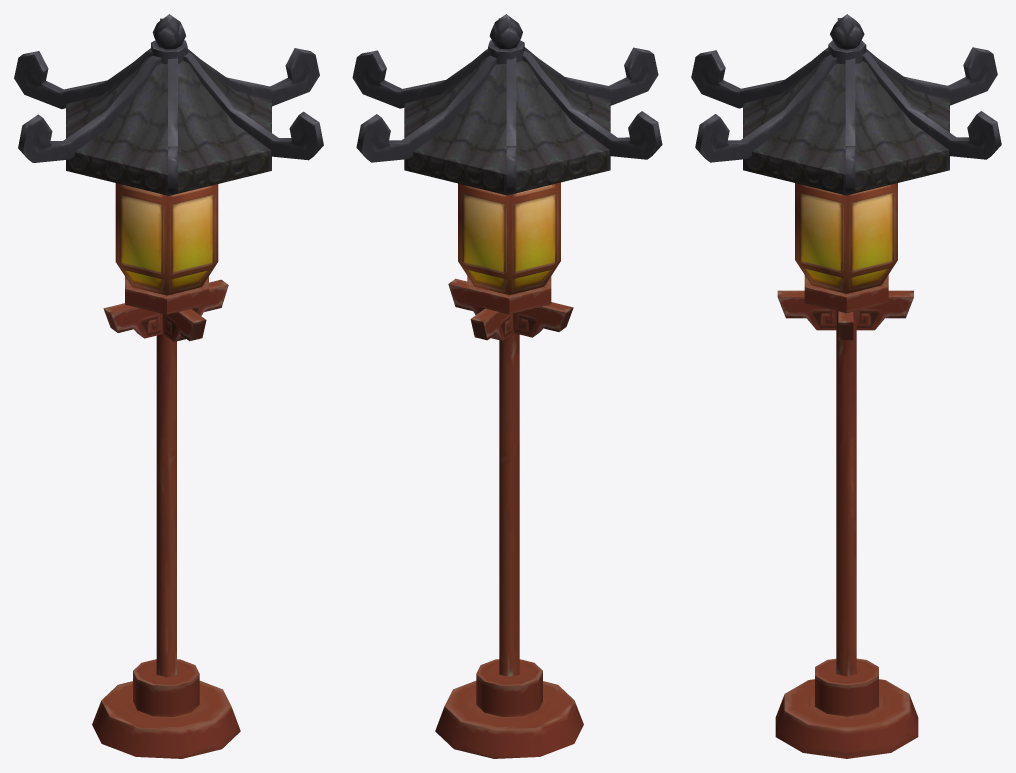
Rendered from ZYbui_CLF_ludeng01.FBX.
The picture shows the model from 3 angles, left to right: view 1: azimuth 30°, elevation 25°; view 2: azimuth 150°, elevation 25°; view 3: azimuth 270°, elevation 25°; orthographic projection.
Visible parts, largest first — view 1: ZYbui_CLF_ludeng01; view 2: ZYbui_CLF_ludeng01; view 3: ZYbui_CLF_ludeng01.
Part boxes in pixels (<box>): ZYbui_CLF_ludeng01: <box>14,14,323,758</box>; ZYbui_CLF_ludeng01: <box>352,14,662,758</box>; ZYbui_CLF_ludeng01: <box>691,14,1001,758</box>.
Size of the model in its own units: 124 by 280 by 110.
